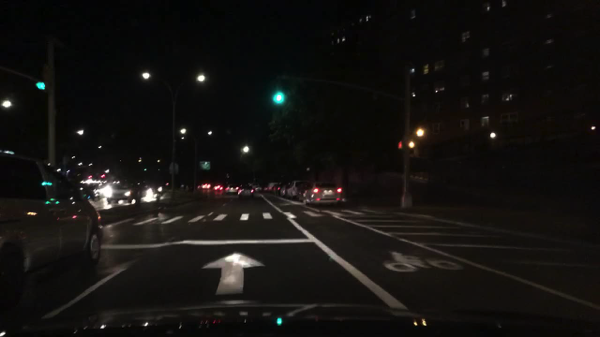car: (0, 150, 104, 309), (303, 181, 345, 206), (107, 180, 142, 203), (142, 180, 171, 202), (78, 181, 107, 200), (283, 181, 306, 199), (294, 184, 310, 200), (237, 186, 255, 200), (264, 182, 277, 193), (225, 184, 239, 194), (272, 184, 284, 195), (202, 183, 211, 191), (213, 185, 223, 192), (253, 185, 263, 192)
traffic light: (275, 84, 282, 103), (406, 140, 417, 151), (397, 140, 403, 151), (88, 175, 93, 182), (101, 173, 105, 181)
traffic sign: (198, 161, 212, 171), (169, 162, 179, 176)
